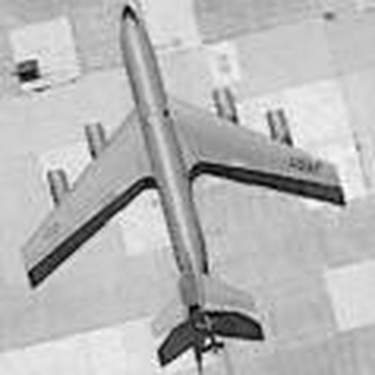airplane: (4, 1, 350, 362)
